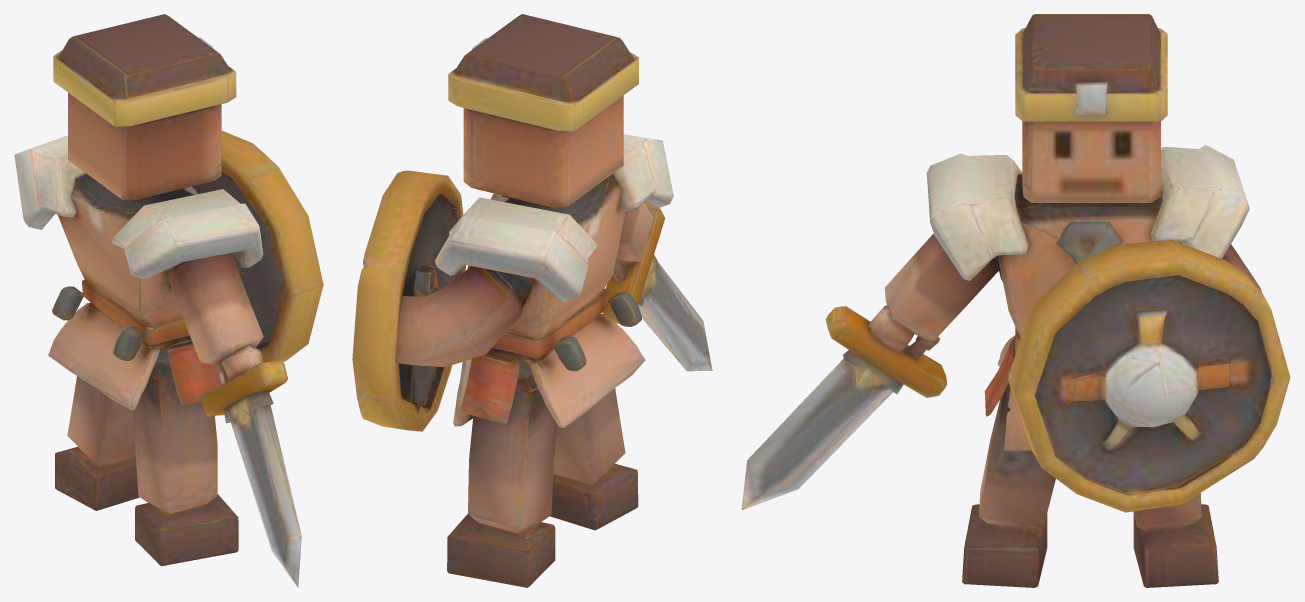
File: runa-heroe.min.glb
3 renders of one model, left to right at view 1: azimuth 30°, elevation 25°; view 2: azimuth 150°, elevation 25°; view 3: azimuth 270°, elevation 25°, orthographic. The views are drawn at different scales.
Parts seen in each view (by area): view 1: tripo_node_64d1deab-ec02-4e07-95ce-5f8e430917e4; view 2: tripo_node_64d1deab-ec02-4e07-95ce-5f8e430917e4; view 3: tripo_node_64d1deab-ec02-4e07-95ce-5f8e430917e4.
Part boxes in pixels (x1=…): tripo_node_64d1deab-ec02-4e07-95ce-5f8e430917e4: x1=14, y1=14, x2=323, y2=587; tripo_node_64d1deab-ec02-4e07-95ce-5f8e430917e4: x1=352, y1=14, x2=712, y2=587; tripo_node_64d1deab-ec02-4e07-95ce-5f8e430917e4: x1=741, y1=14, x2=1290, y2=587.
Bounding box in the file's own units: 0.4941 × 0.998 × 0.9434.
Materials: 1 (1 with a texture image).
